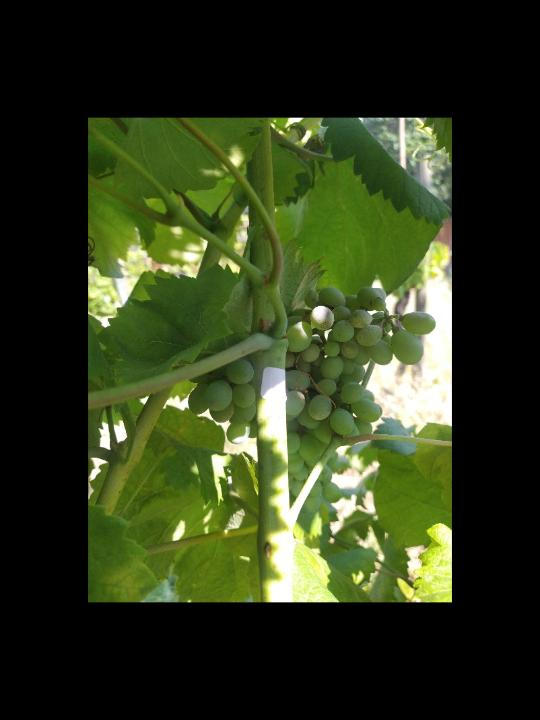grape: (186, 286, 440, 514)
